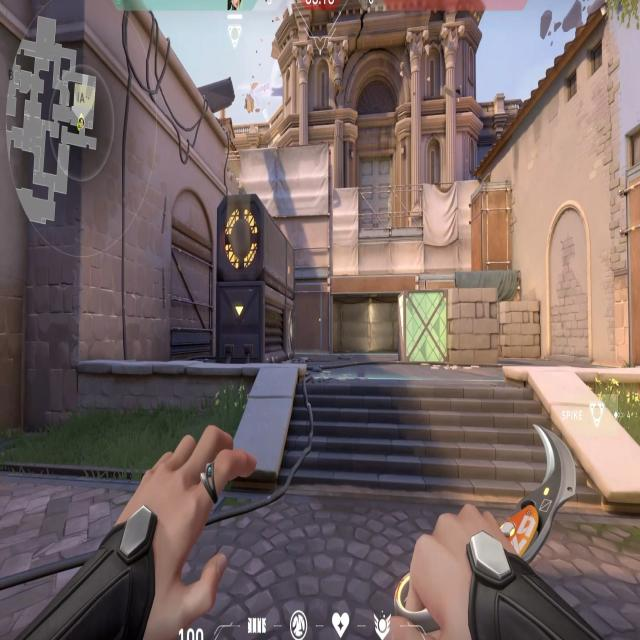A_Heaven_Box: (470, 168, 516, 274)
A_Heaven_Wall: (230, 145, 334, 282)
A_Hell: (324, 259, 428, 363)
A_Site_Box: (395, 283, 505, 375)
